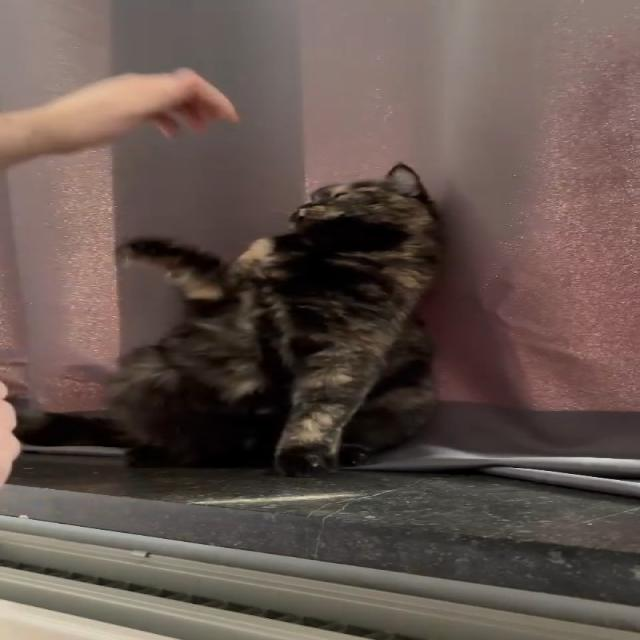authorized: (103, 161, 445, 477)
